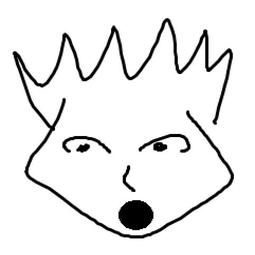eye: (132, 130, 193, 157), (62, 131, 116, 159)
open_mouth: (117, 196, 158, 233)
pointy_nose: (117, 159, 140, 196)
